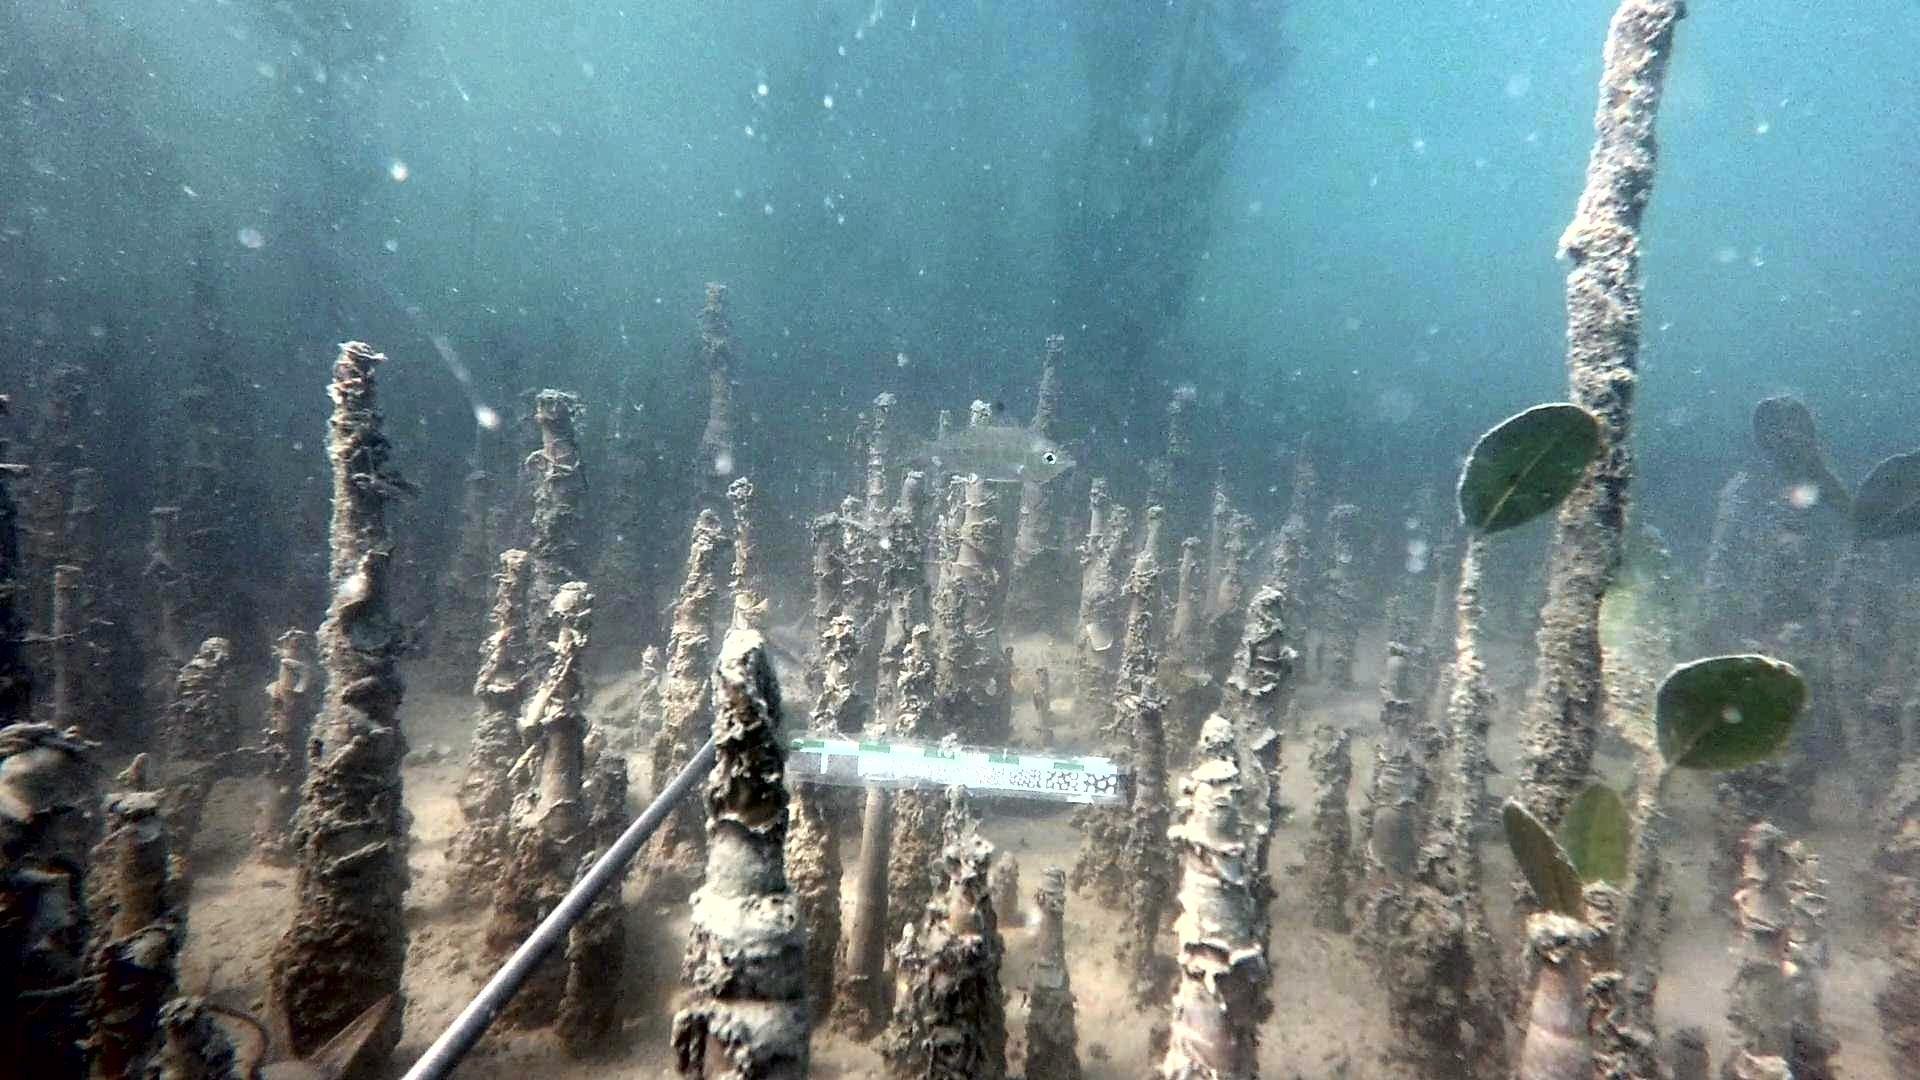gerres: (887, 400, 1077, 489)
